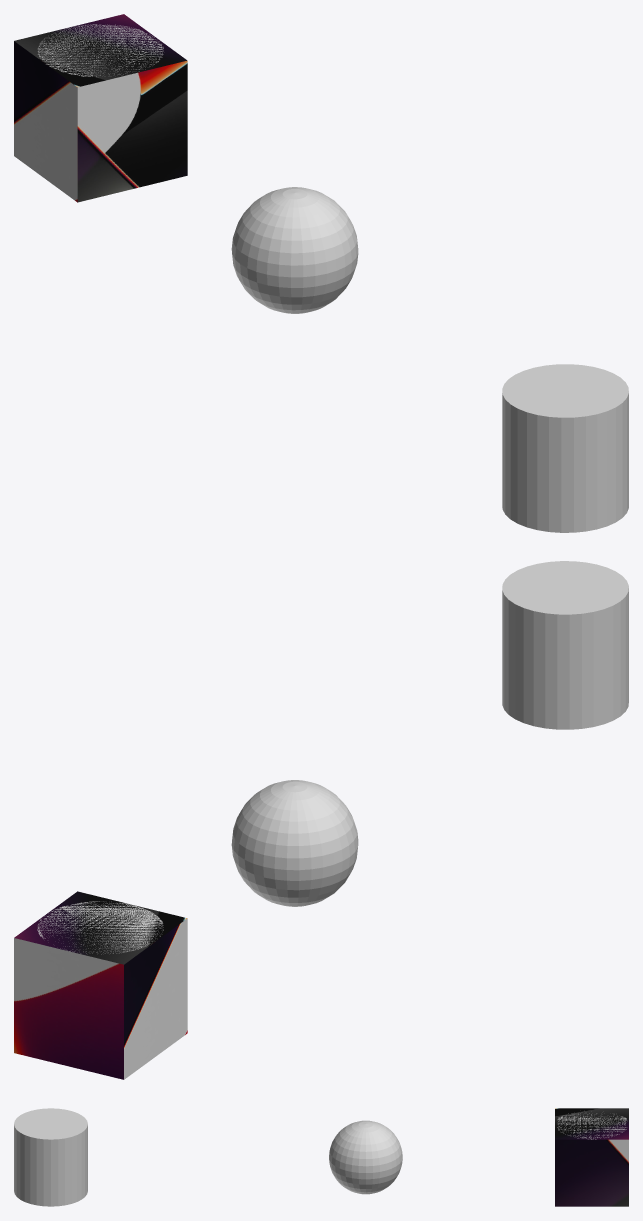
Rendered from multi.glb.
The picture shows the model from 3 angles, top to bottom: view 1: azimuth 30°, elevation 25°; view 2: azimuth 150°, elevation 25°; view 3: azimuth 270°, elevation 25°; orthographic projection. The views are drawn at different scales.
Parts seen in each view (by area): view 1: Cube, matte, Sphere, Cylinder; view 2: Cube, matte, Sphere, Cylinder; view 3: Cube, matte, Sphere, Cylinder.
Part boxes in pixels (<box>): Cube: <box>14,14,187,202</box>; matte: <box>502,364,628,532</box>; Sphere: <box>231,187,358,313</box>; Cylinder: <box>38,24,163,76</box>; Cube: <box>14,891,187,1079</box>; matte: <box>502,561,628,729</box>; Sphere: <box>231,780,358,906</box>; Cylinder: <box>37,901,163,954</box>; Cube: <box>555,1108,628,1206</box>; matte: <box>14,1108,87,1206</box>; Sphere: <box>329,1120,402,1194</box>; Cylinder: <box>557,1113,626,1139</box>.
Bounding box in the file's own units: 2 × 2 × 16.63.
Materials: 1 (1 with a texture image).
